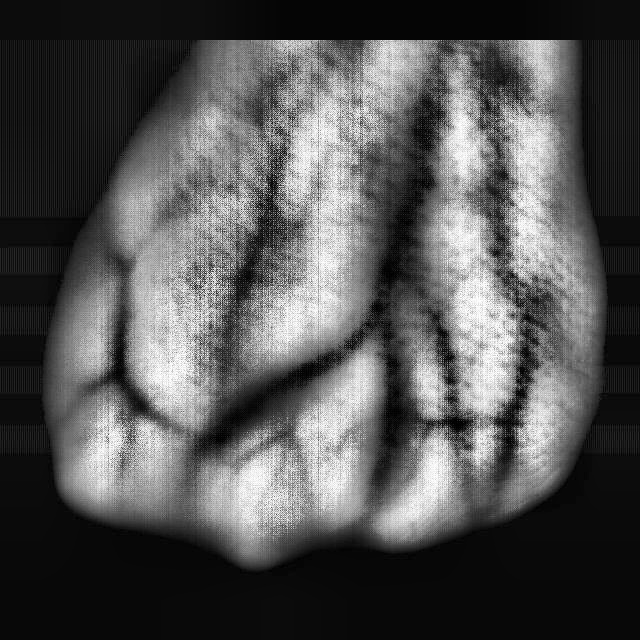Vein: (360, 108, 448, 312)
